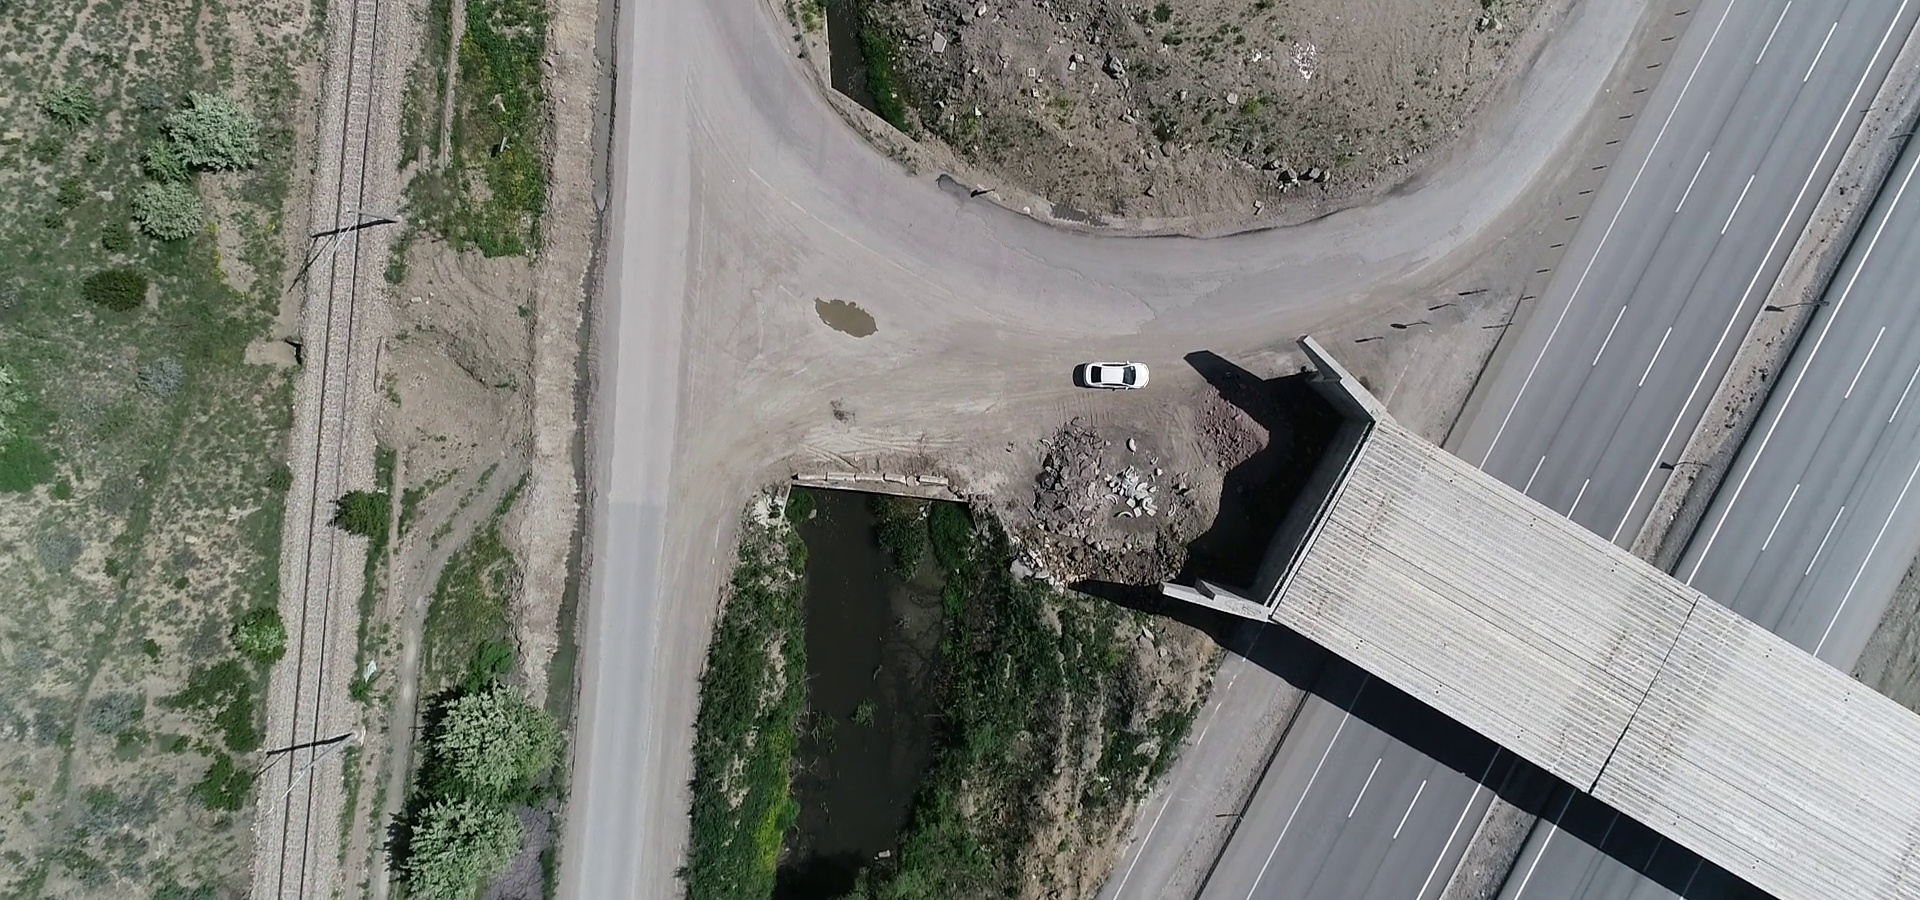arac: (1075, 358, 1157, 396)
